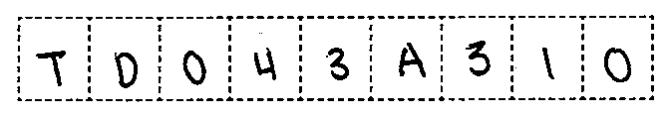0: (597, 42, 637, 88), (178, 45, 212, 91)
1: (532, 42, 564, 87)
3: (457, 35, 497, 83), (323, 42, 356, 84)
4: (248, 44, 285, 87)
A: (392, 37, 433, 85)
D: (108, 45, 144, 93)
T: (30, 47, 73, 93)
